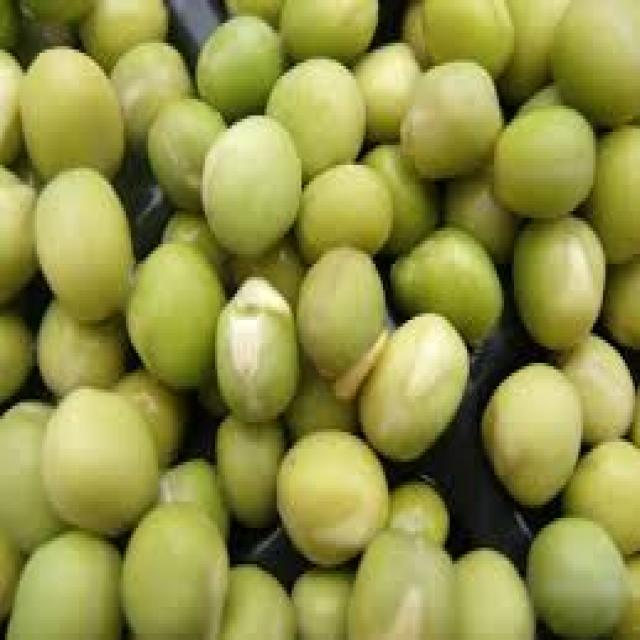organic waste: (40, 386, 158, 538), (353, 310, 467, 455), (477, 349, 581, 502), (32, 165, 131, 323), (116, 498, 227, 637), (121, 241, 222, 389), (198, 112, 299, 257), (274, 432, 383, 564), (292, 244, 386, 393), (17, 43, 124, 171), (509, 211, 605, 347), (521, 514, 628, 636), (259, 52, 366, 172), (388, 225, 499, 336), (344, 524, 452, 636), (5, 531, 119, 637), (212, 270, 296, 412), (400, 56, 499, 172), (489, 102, 591, 211), (425, 538, 536, 636), (551, 0, 638, 122), (109, 33, 190, 152), (558, 432, 638, 551), (143, 92, 225, 208), (34, 290, 124, 393), (289, 158, 391, 248), (213, 402, 284, 528), (193, 10, 279, 112), (580, 125, 638, 264), (496, 0, 575, 102), (361, 139, 437, 244), (564, 333, 632, 442), (114, 363, 188, 458), (440, 162, 516, 254), (282, 346, 356, 436), (158, 448, 232, 534), (74, 0, 168, 66), (353, 40, 415, 138), (218, 558, 294, 636), (274, 0, 376, 56), (282, 558, 353, 636), (0, 162, 37, 306), (158, 205, 227, 277), (383, 478, 447, 554), (598, 248, 638, 346), (422, 0, 487, 56), (0, 43, 22, 162), (0, 307, 27, 396), (15, 0, 96, 23), (522, 73, 568, 112), (620, 554, 638, 637), (220, 0, 282, 23), (0, 0, 22, 53), (630, 370, 638, 446)
